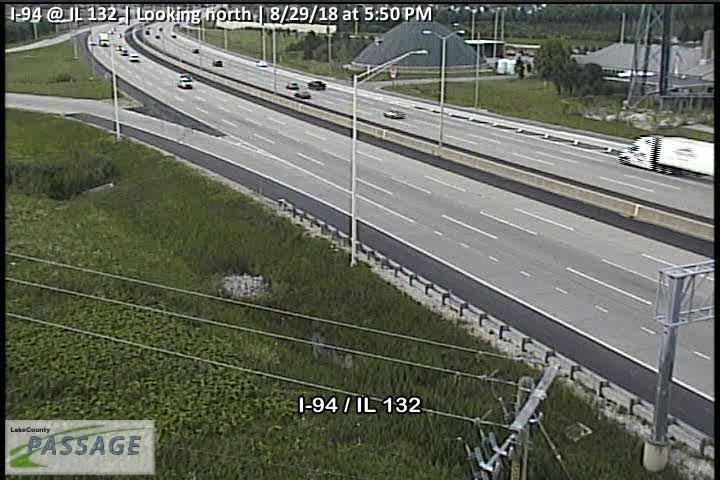Sedan: (383, 109, 406, 119), (178, 75, 191, 88), (308, 81, 325, 90), (296, 91, 310, 97)
Truck: (618, 135, 714, 179)
